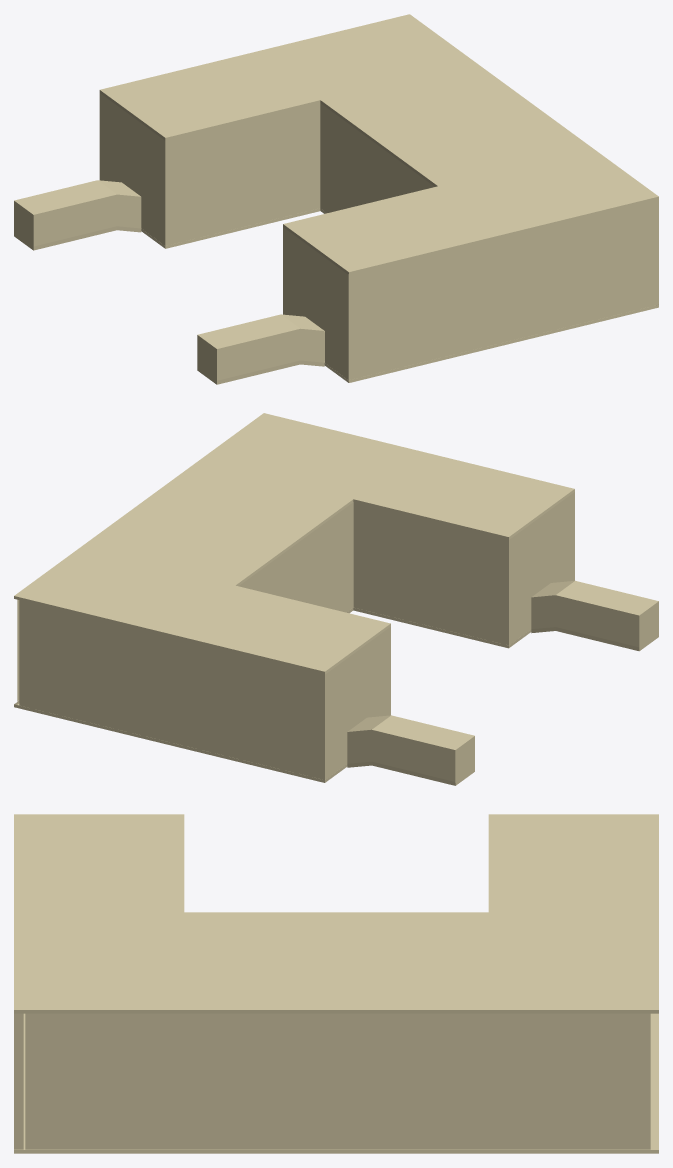
File: WareHouse_Unity1.fbx
The picture shows the model from 3 angles, top to bottom: view 1: azimuth 30°, elevation 25°; view 2: azimuth 150°, elevation 25°; view 3: azimuth 270°, elevation 25°; orthographic projection. The views are drawn at different scales.
Visible parts, largest first — view 1: Roof, SideWallRight, FrontWall, Truck1.001, Truck1, TruckLoadFront1, TruckLoadFront1.001, TruckLoadFront2, Floor; view 2: Roof, SideWallLeft, FrontWall, Truck1, Truck1.001, TruckLoadFront1, TruckLoadFront1.001, TruckLoadFront2, Floor; view 3: Roof, BackWall, Floor, SideWallRight.
Boxes of the visible parts, box(x1,y1,x2,y2) form: Roof: box(99, 14, 658, 274); SideWallRight: box(354, 199, 658, 378); FrontWall: box(170, 103, 434, 244); Truck1.001: box(197, 314, 324, 384); Truck1: box(14, 180, 141, 250); TruckLoadFront1: box(99, 93, 170, 245); TruckLoadFront1.001: box(283, 227, 353, 379); TruckLoadFront2: box(283, 229, 348, 379); Floor: box(141, 208, 658, 382); Roof: box(14, 413, 574, 674); SideWallLeft: box(19, 600, 324, 779); FrontWall: box(239, 502, 503, 643); Truck1: box(347, 715, 474, 785); Truck1.001: box(531, 580, 658, 651); TruckLoadFront1: box(325, 626, 390, 779); TruckLoadFront1.001: box(509, 496, 574, 644); TruckLoadFront2: box(503, 492, 574, 645); Floor: box(14, 607, 531, 782); Roof: box(14, 814, 658, 1013); BackWall: box(25, 1013, 650, 1149); Floor: box(14, 1013, 658, 1153); SideWallRight: box(14, 1013, 23, 1149).
Bounding box in the file's own units: 14133 × 3621 × 14594.
